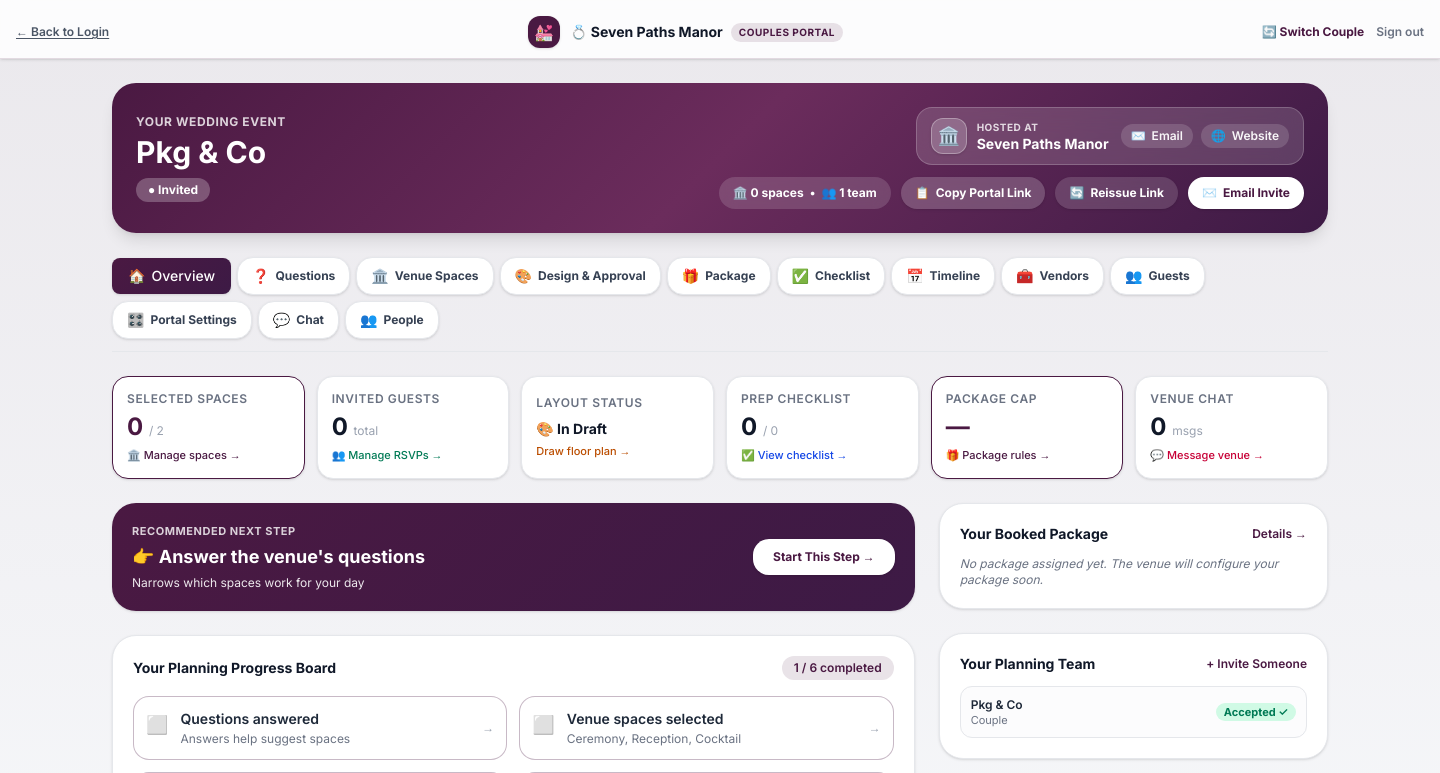
it: CouplesPortal › renders the package tab
The width and height of the screenshot is (1440, 773).
Click the tab "🎁 Package": (719, 276) [667, 257, 771, 295]
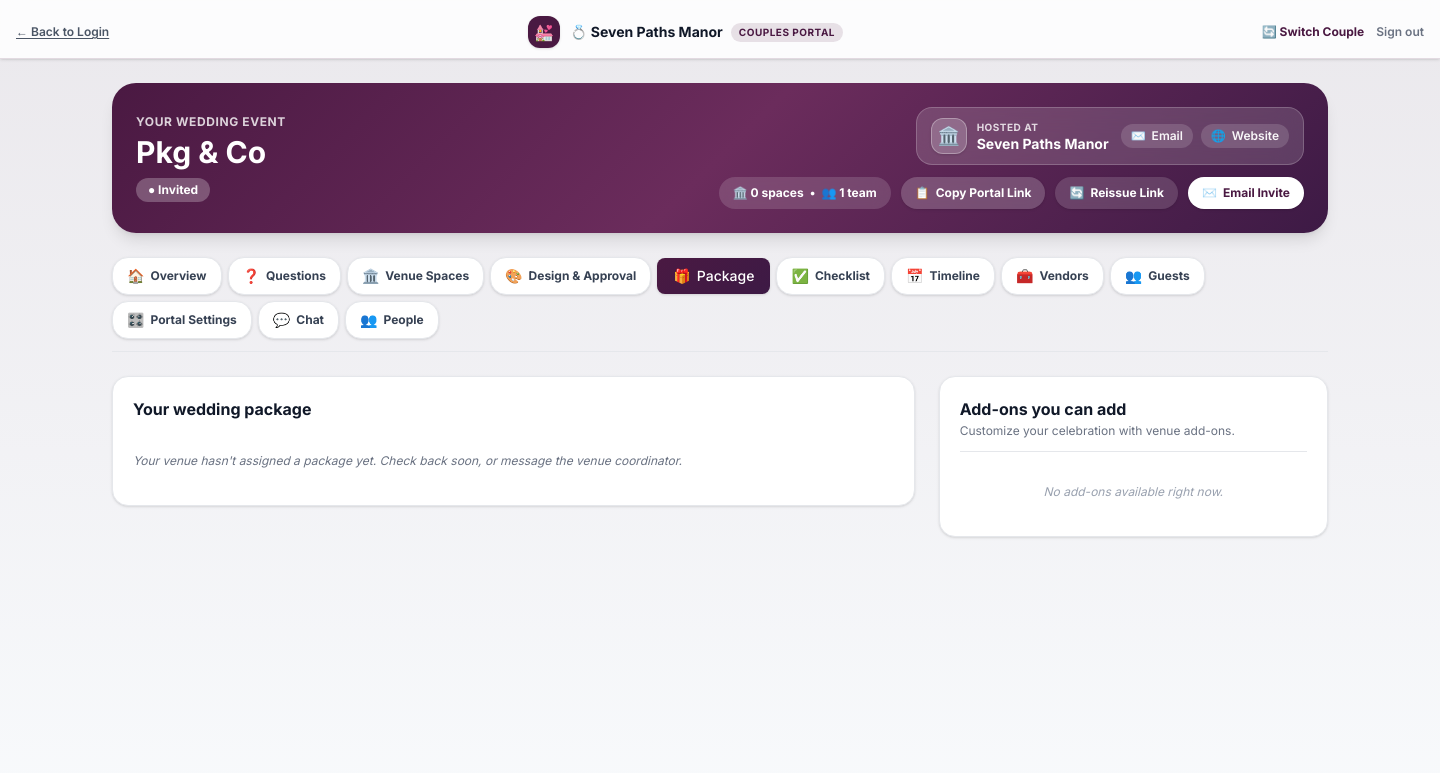
Result: the heading "Your wedding package" is shown at [133, 399, 312, 419]
Result: the heading "Add-ons you can add" is shown at [960, 399, 1126, 419]
